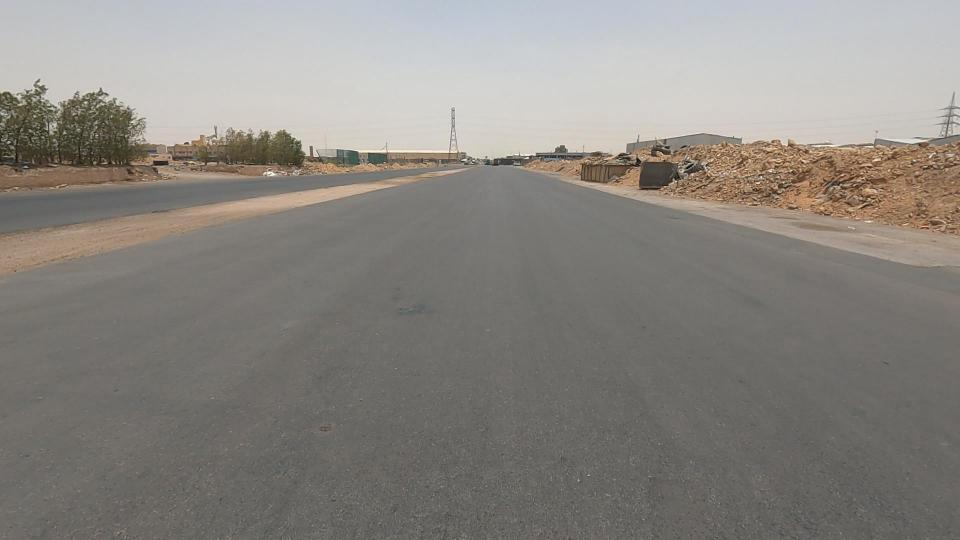GARBAGE: (656, 129, 736, 197), (622, 135, 685, 210), (239, 160, 300, 189), (270, 159, 336, 182)
